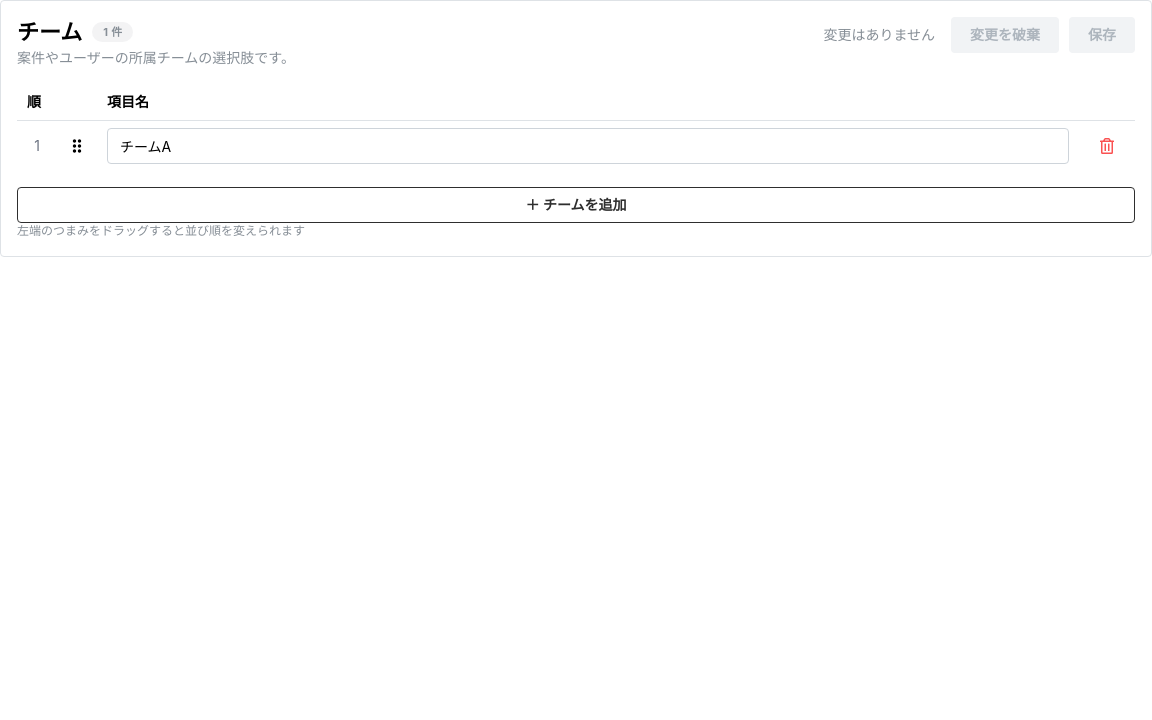
Test: optionRowsToSave › 編集パネルの表示（Issue #197） › 空欄の行が 2 つあっても、Alert に空の名前の重複を出さない
Click the button "＋ チームを追加" at {"x": 576, "y": 205}, box [17, 187, 1135, 223]
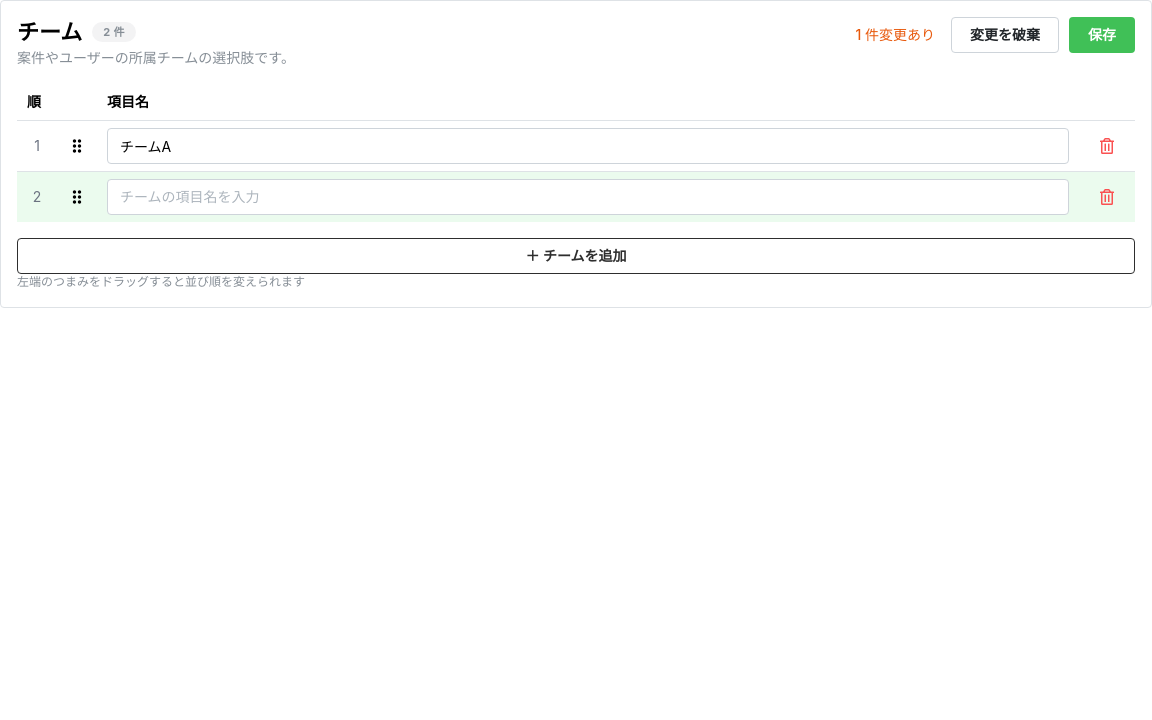
Click the button "＋ チームを追加" at {"x": 576, "y": 256}, box [17, 238, 1135, 274]
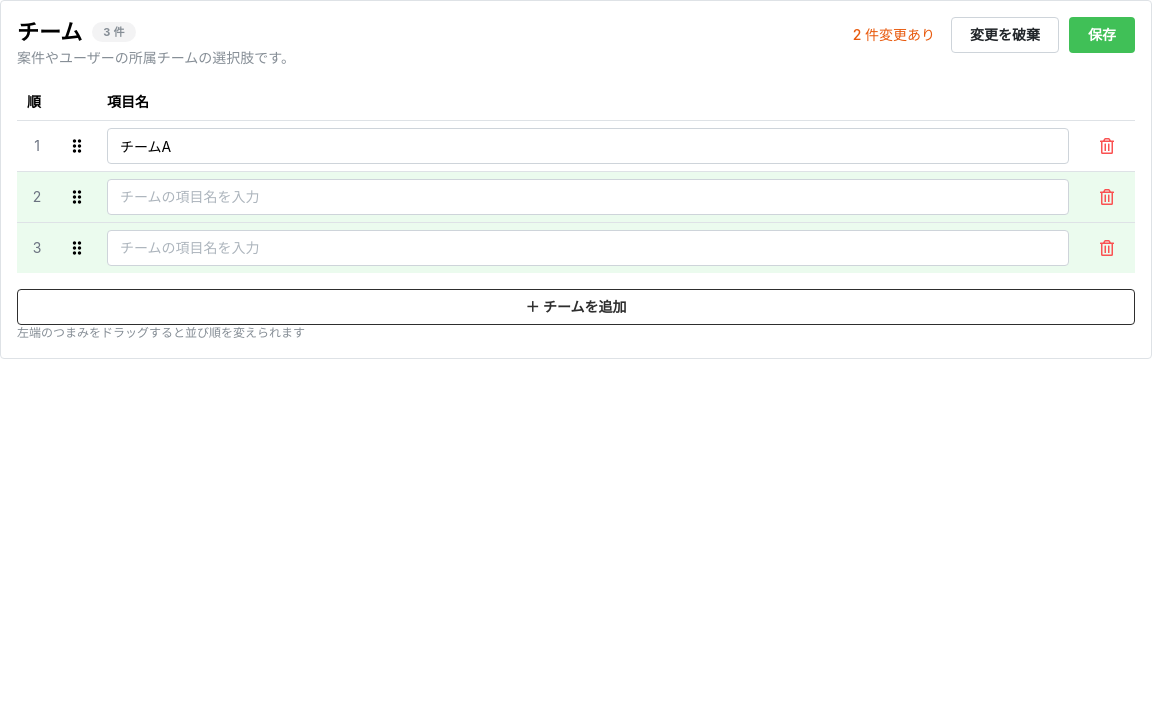
Click the button "保存" at {"x": 1102, "y": 35}, box [1069, 17, 1135, 53]
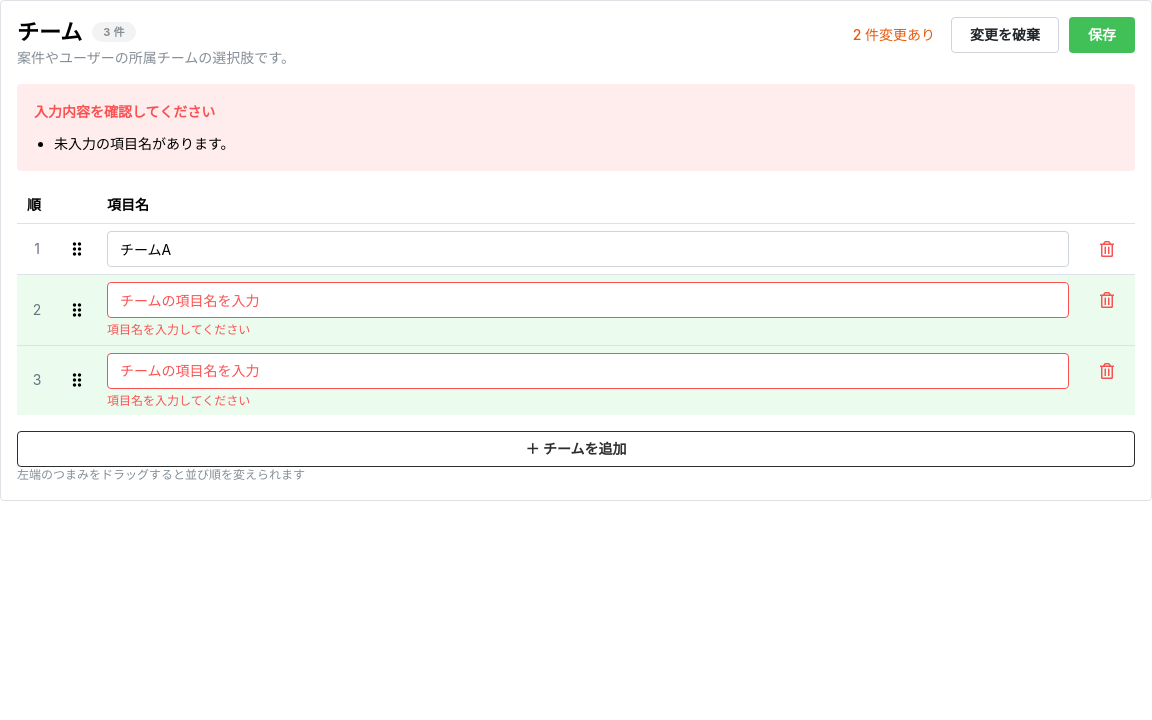
Expected: the list item "未入力の項目名があります。" is shown, [54, 135, 235, 152]
